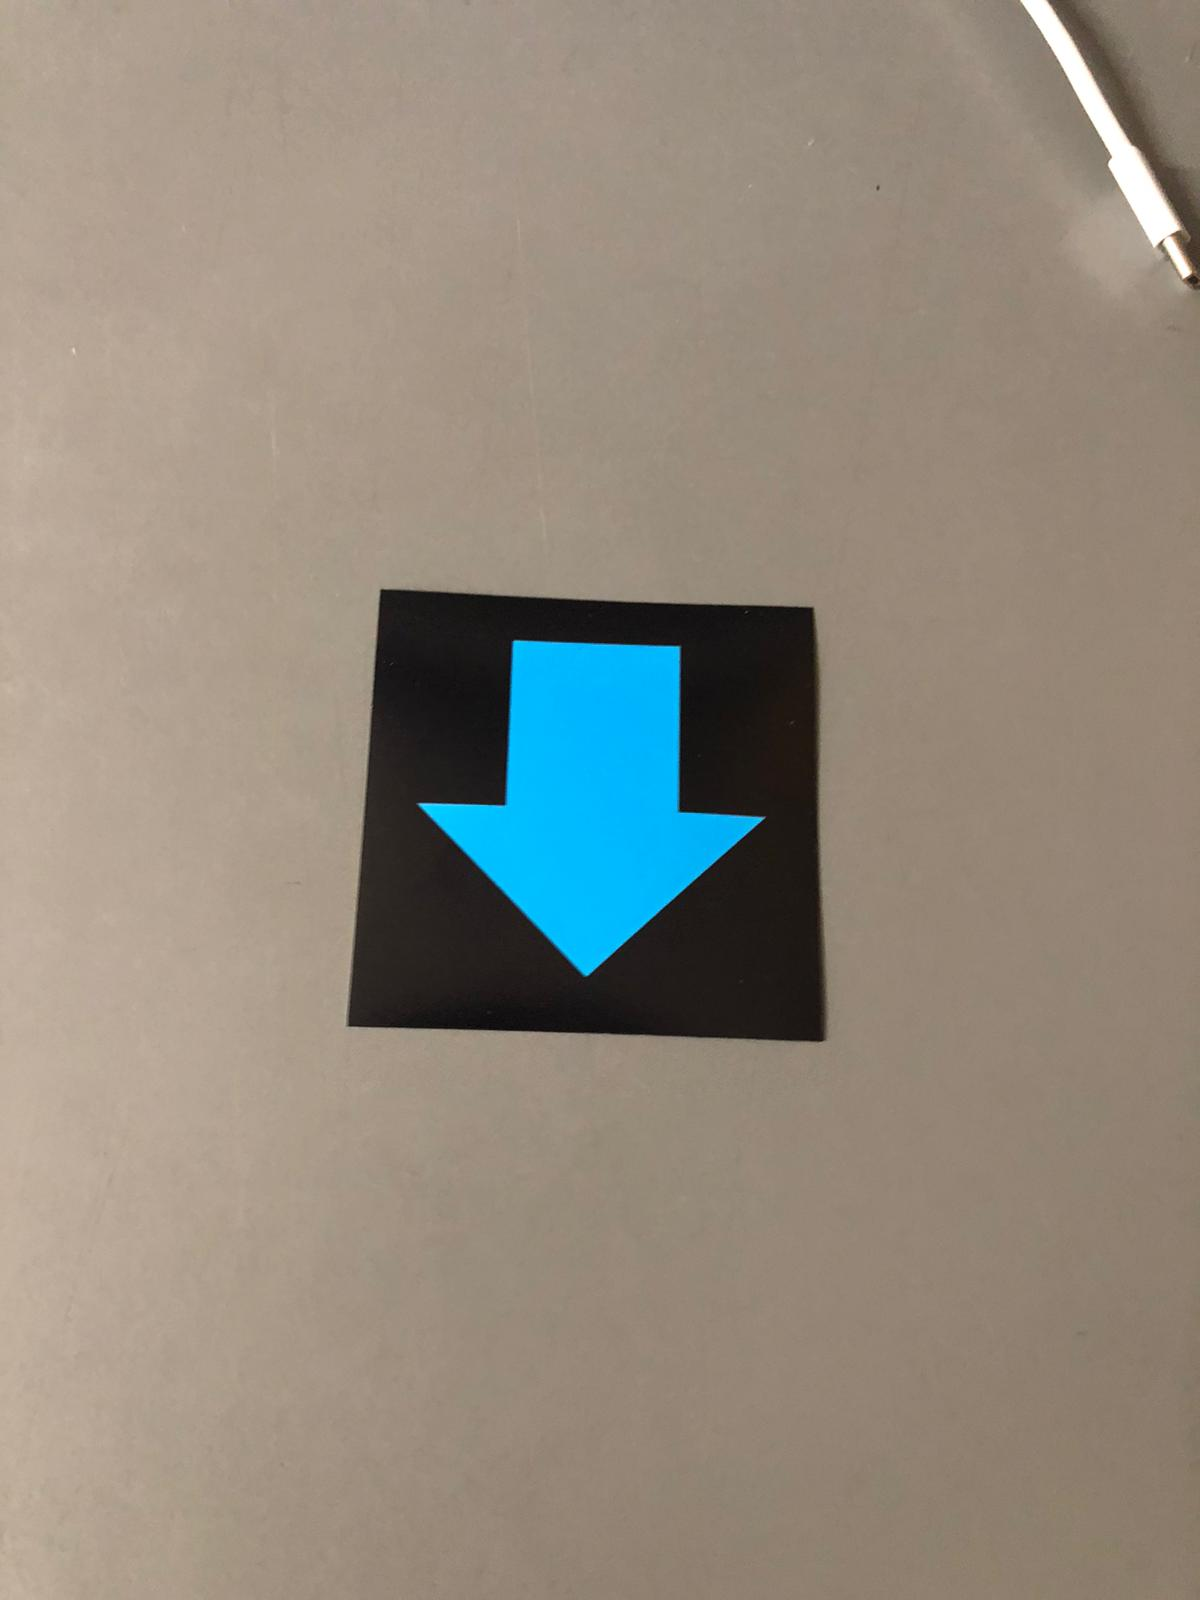Down Arrow: (379, 601, 811, 1022)
